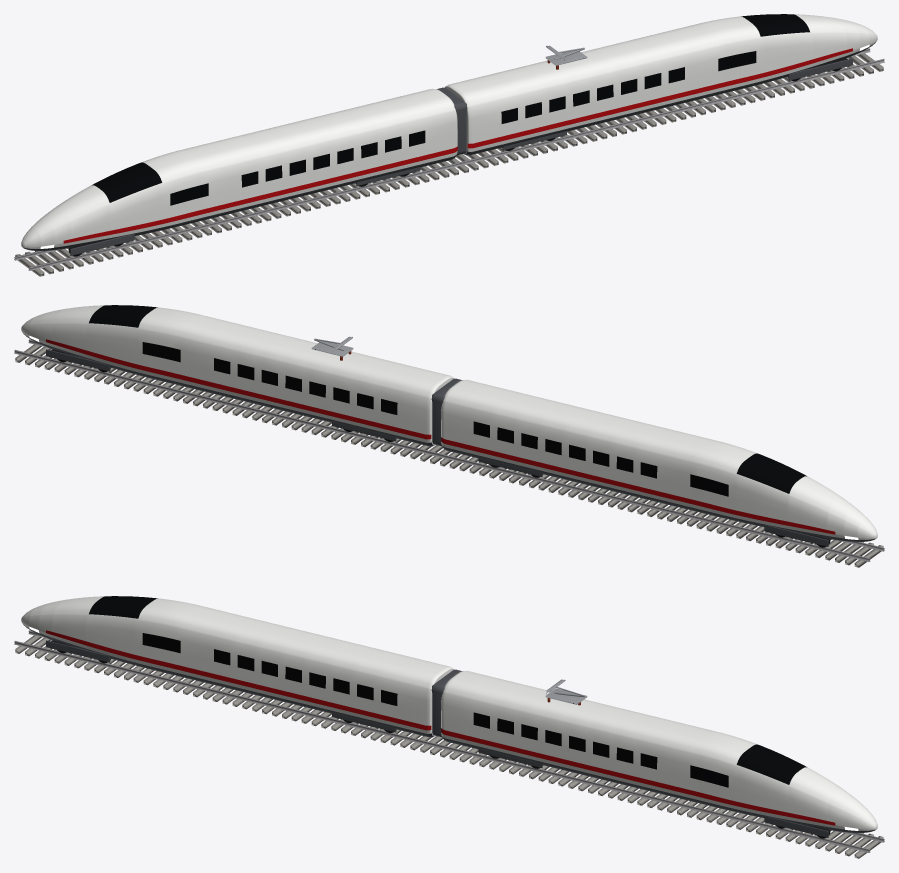
Rendered from high_speed_train.light.glb.
3 views of the same model, one above another, from view 1: azimuth 30°, elevation 25°; view 2: azimuth 150°, elevation 25°; view 3: azimuth 330°, elevation 25° (orthographic).
Parts seen in each view (by area): view 1: car_1_body__train_white, car_2_body__train_white, sleepers, rails, car_1_body__glass, car_2_body__glass, car_1_body__train_red, car_2_body__train_red, car_1_body__train_grey, car_2_body__train_grey, car_1_bogie_fairings, car_2_bogie_fairings (+1 smaller); view 2: car_1_body__train_white, car_2_body__train_white, sleepers, rails, car_1_body__glass, car_2_body__glass, car_1_body__train_red, car_2_body__train_red, car_1_body__train_grey, car_2_body__train_grey, car_1_bogie_fairings, car_2_bogie_fairings (+1 smaller); view 3: car_2_body__train_white, car_1_body__train_white, sleepers, rails, car_2_body__glass, car_1_body__glass, car_2_body__train_red, car_1_body__train_red, car_2_body__train_grey, car_1_body__train_grey, car_2_bogie_fairings, car_1_bogie_fairings (+1 smaller).
Boxes of the visible parts, x1,y1,x2,y2 form: car_1_body__train_white: (21,88,457,248); car_2_body__train_white: (445,14,877,154); sleepers: (15,53,883,276); rails: (14,48,884,270); car_1_body__glass: (92,130,425,205); car_2_body__glass: (501,14,809,123); car_1_body__train_red: (63,146,457,243); car_2_body__train_red: (467,48,852,148); car_1_body__train_grey: (23,154,456,250); car_2_body__train_grey: (465,42,875,155); car_1_bogie_fairings: (70,167,420,255); car_2_bogie_fairings: (502,58,852,150); car_1_body__train_white: (441,379,877,539); car_2_body__train_white: (21,305,453,445); sleepers: (15,344,883,567); rails: (14,339,884,561); car_1_body__glass: (473,421,806,496); car_2_body__glass: (89,305,397,414); car_1_body__train_red: (441,437,835,534); car_2_body__train_red: (46,339,431,439); car_1_body__train_grey: (442,445,875,541); car_2_body__train_grey: (23,333,433,446); car_1_bogie_fairings: (478,458,828,546); car_2_bogie_fairings: (46,349,396,441); car_2_body__train_white: (441,670,877,830); car_1_body__train_white: (21,596,453,736); sleepers: (15,635,883,858); rails: (14,630,884,852); car_2_body__glass: (473,712,806,787); car_1_body__glass: (89,596,397,705); car_2_body__train_red: (441,728,835,825); car_1_body__train_red: (46,630,431,730); car_2_body__train_grey: (442,736,875,832); car_1_body__train_grey: (23,624,433,737); car_2_bogie_fairings: (478,749,828,837); car_1_bogie_fairings: (46,640,396,732).
Size of the model in its own units: 51.95 by 5.07 by 2.95.
